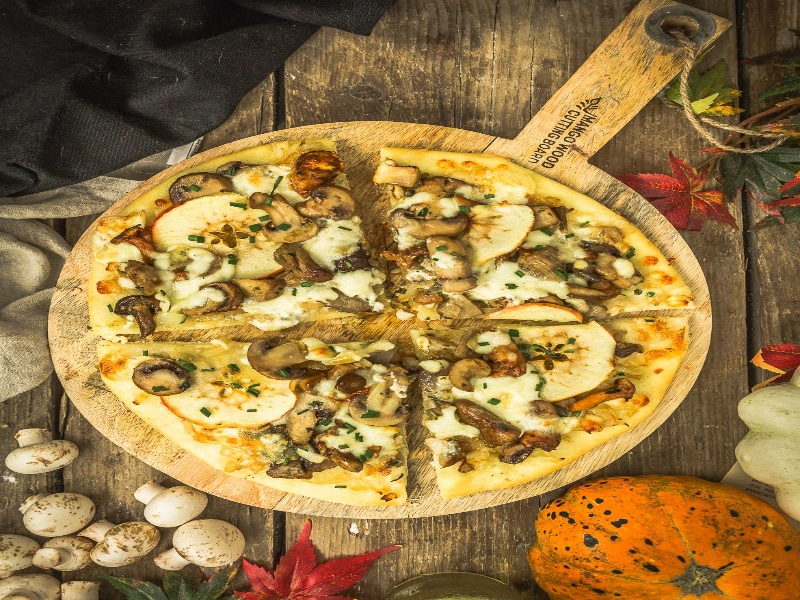champignon: (247, 191, 321, 249), (242, 335, 311, 383), (298, 185, 364, 233), (110, 292, 163, 344)
